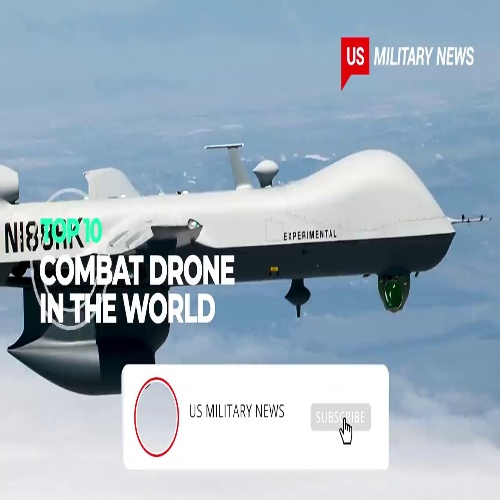uav: (1, 137, 491, 395)
